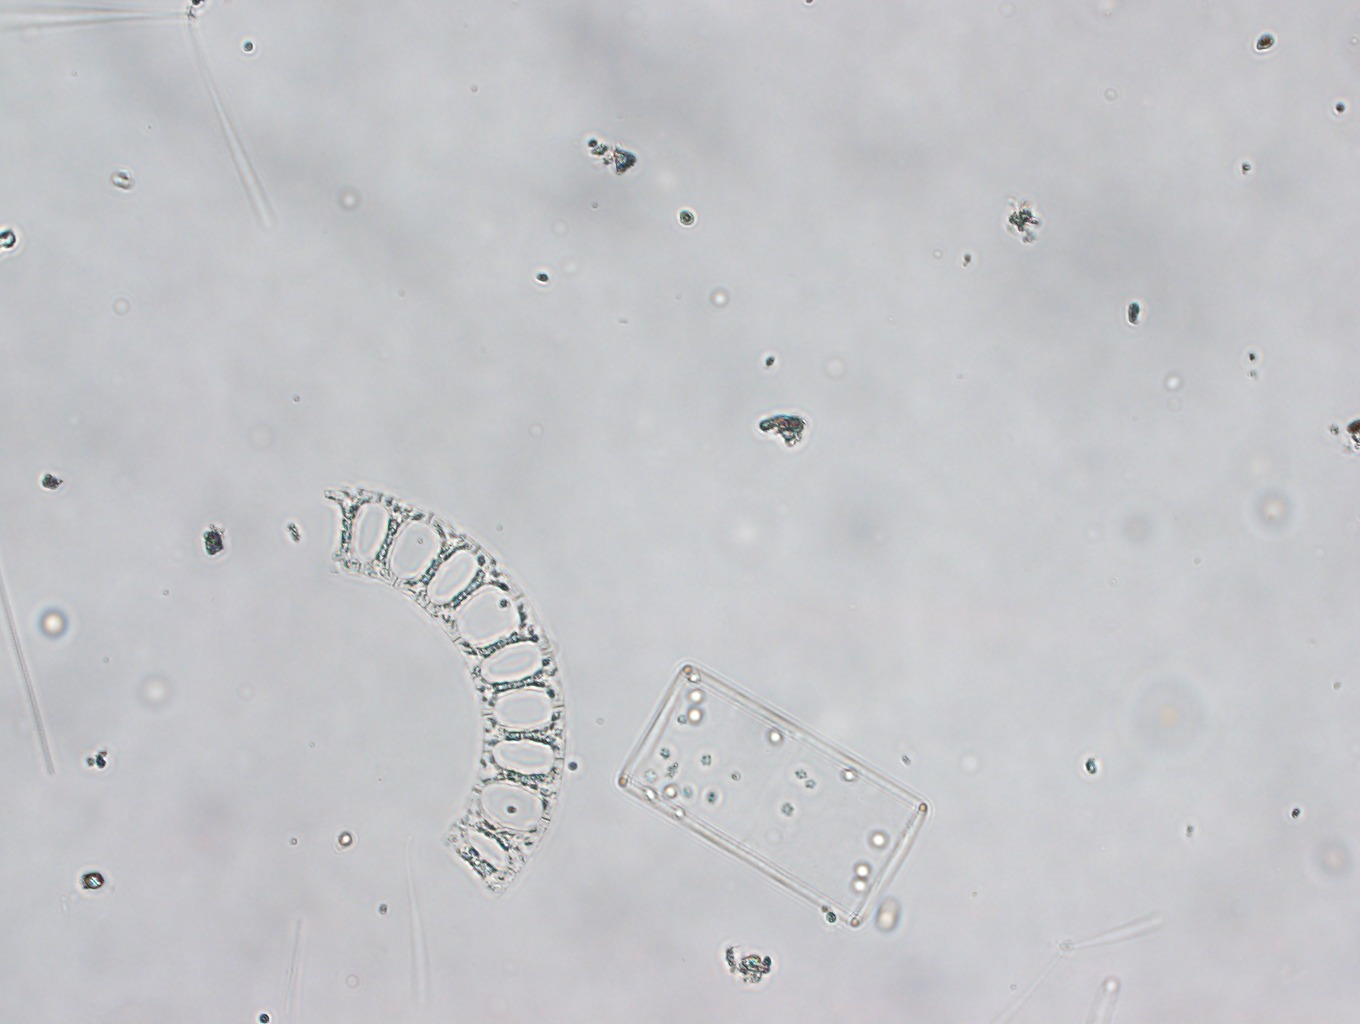eucampia: (307, 475, 574, 911)
guinardia flaccida: (609, 651, 932, 934)
